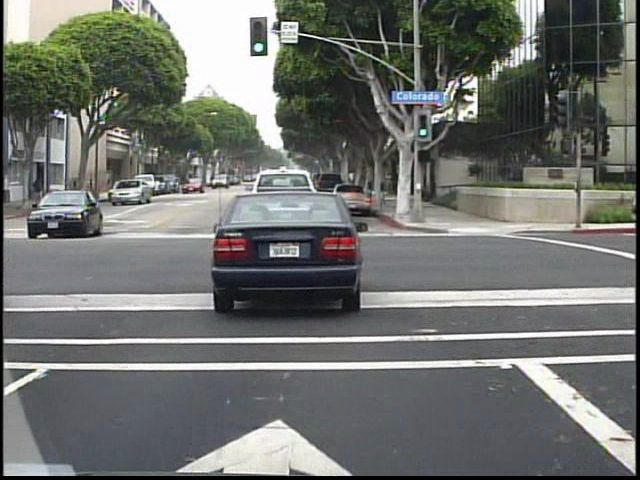person: (33, 175, 46, 206)
